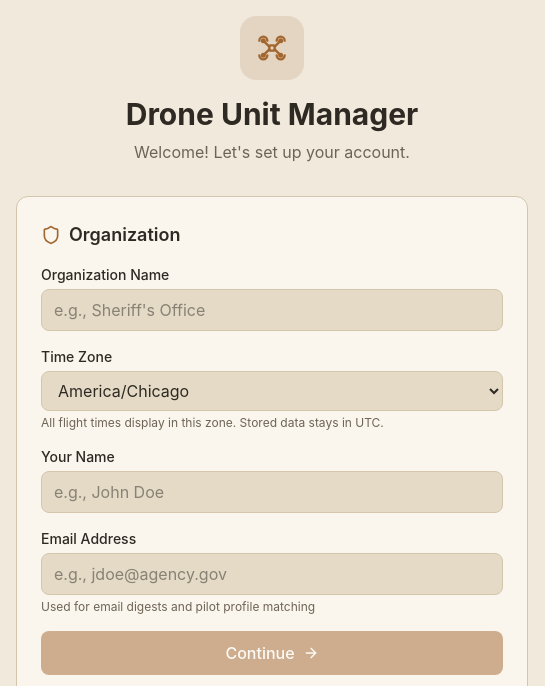
Test: SetupPage › blocks a weak password with an inline validation error
Step 1. Type "John Doe" into the field labelled "Your Name" → point(272, 492), box [41,471,503,513]
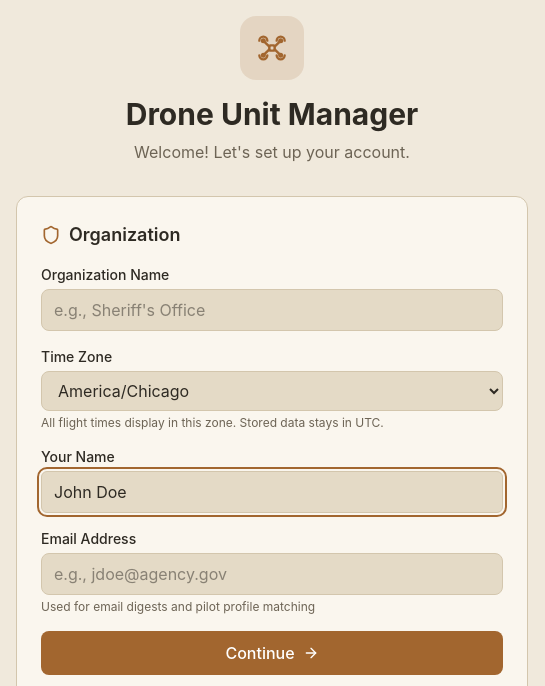
Step 2. Click the button "Continue" → point(272, 653), box [41,631,503,675]
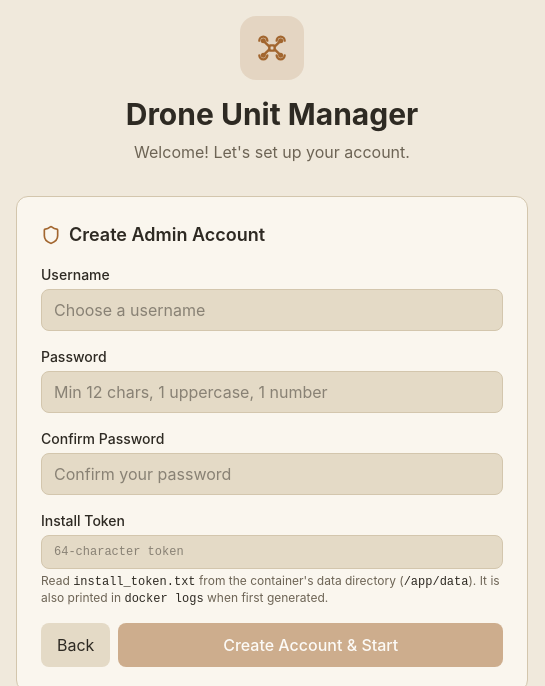
Step 3. Type "admin" into the field labelled "Username" → point(272, 310), box [41,289,503,331]
Step 4. Type "short" into the password field labelled "Password" → point(272, 392), box [41,371,503,413]
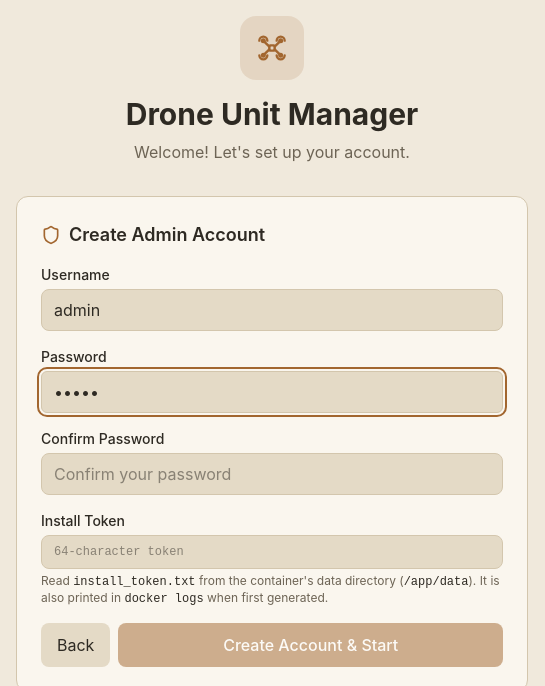
Step 5. Type "short" into the password field labelled "Confirm Password" → point(272, 474), box [41,453,503,495]
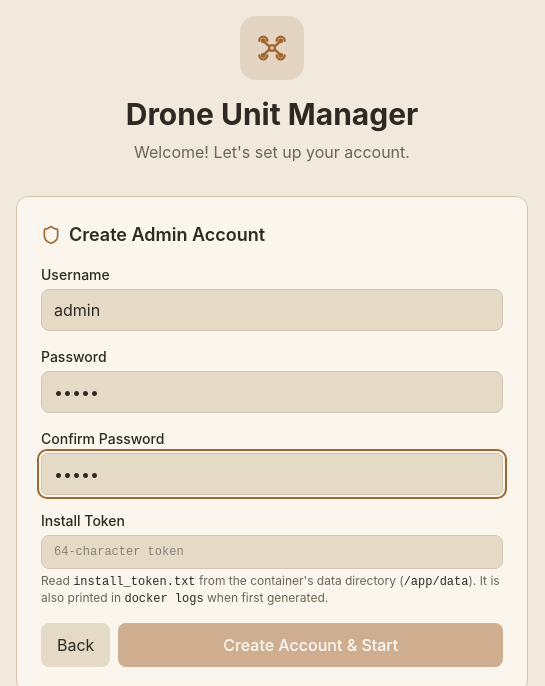
Step 6. Type "the-install-token" into the field labelled "Install Token" → point(272, 552), box [41,535,503,569]
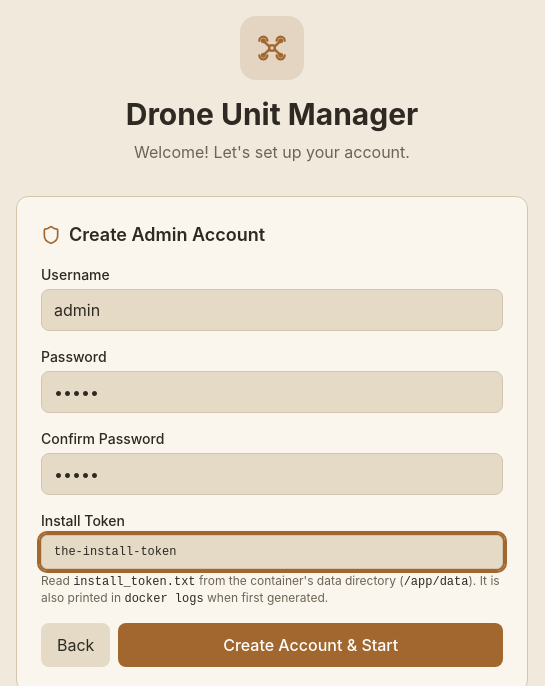
Step 7. Click the button "Create Account & Start" → point(311, 645), box [118,623,503,667]
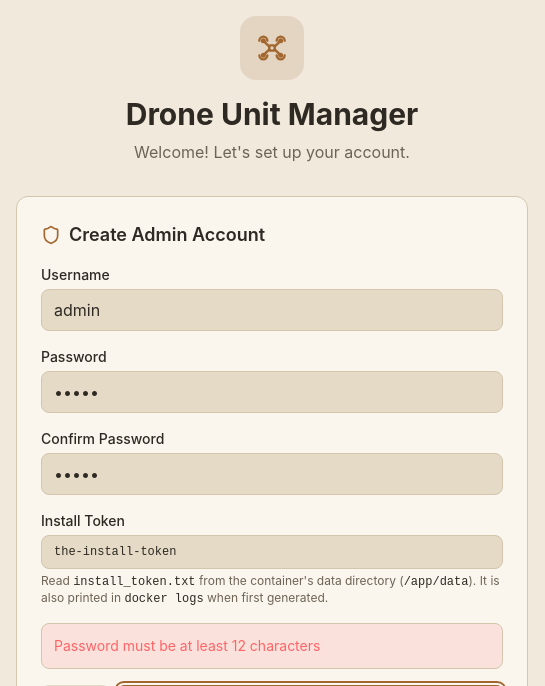
Check: the text "Password must be at least 12 characters" is shown, box [41,623,503,669]
